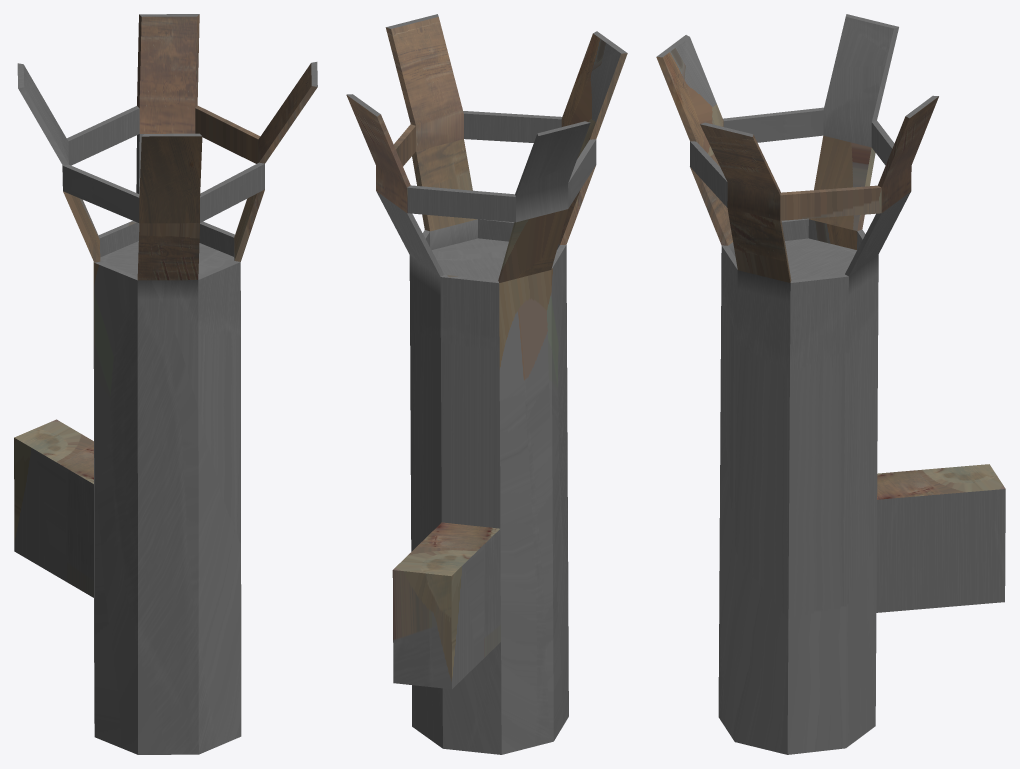
Rendered from Torch_low.fbx.
3 views of the same model, side by side, from view 1: azimuth 30°, elevation 25°; view 2: azimuth 150°, elevation 25°; view 3: azimuth 270°, elevation 25° (orthographic).
Parts seen in each view (by area): view 1: pCylinder2; view 2: pCylinder2; view 3: pCylinder2.
Boxes of the visible parts, bbox=[...] form: pCylinder2: bbox=[14, 14, 317, 754]; pCylinder2: bbox=[346, 14, 627, 754]; pCylinder2: bbox=[656, 14, 1005, 754].
Size of the model in its own units: 3.67 by 9.03 by 4.42.
